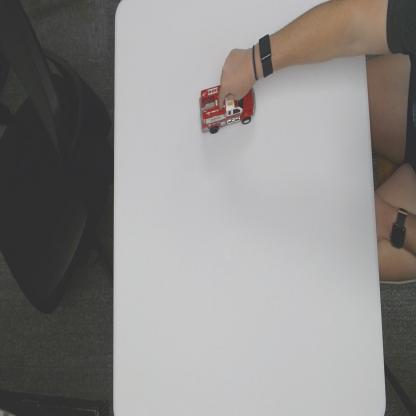Arm: (277, 2, 416, 74)
Firetruck: (198, 81, 256, 136)
Hand: (218, 45, 258, 109)
